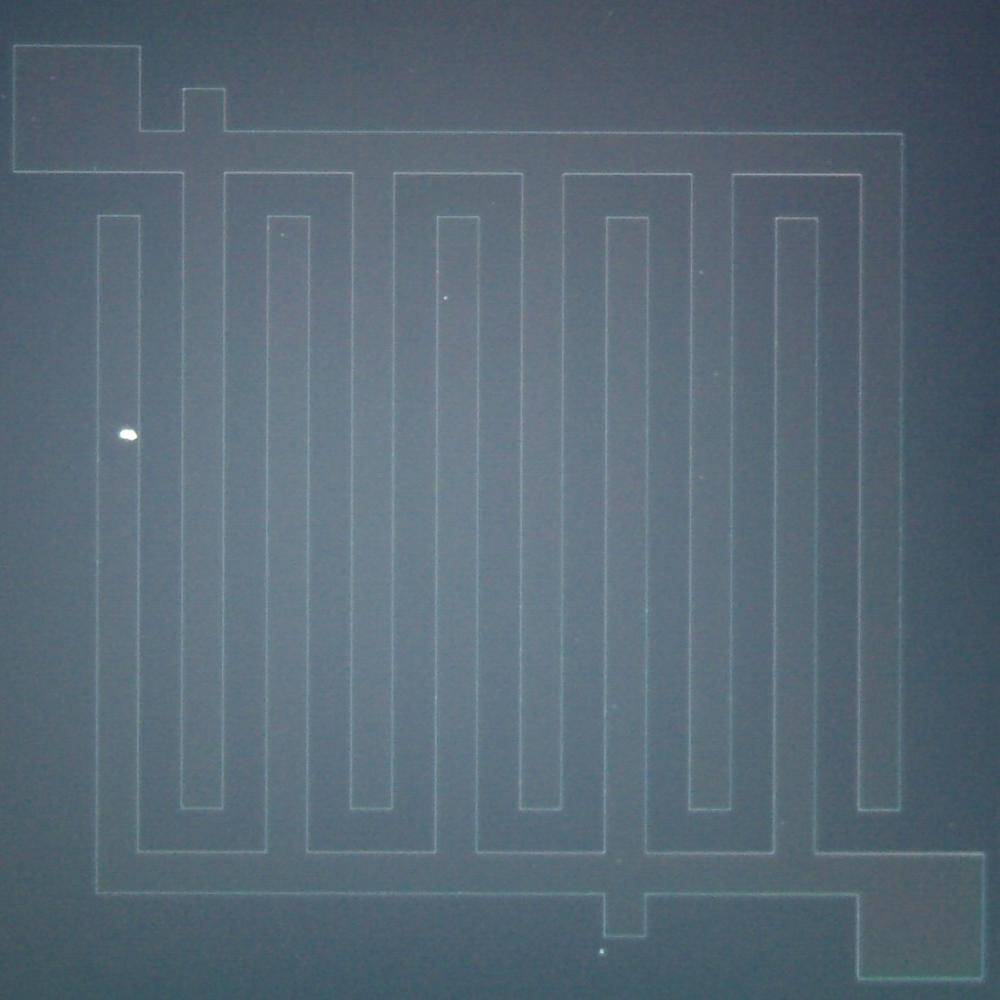dot: (120, 427, 137, 443), (49, 75, 56, 81), (599, 948, 605, 954), (1, 94, 7, 100), (491, 201, 495, 206), (280, 233, 285, 237), (443, 296, 448, 300), (699, 270, 703, 274)
